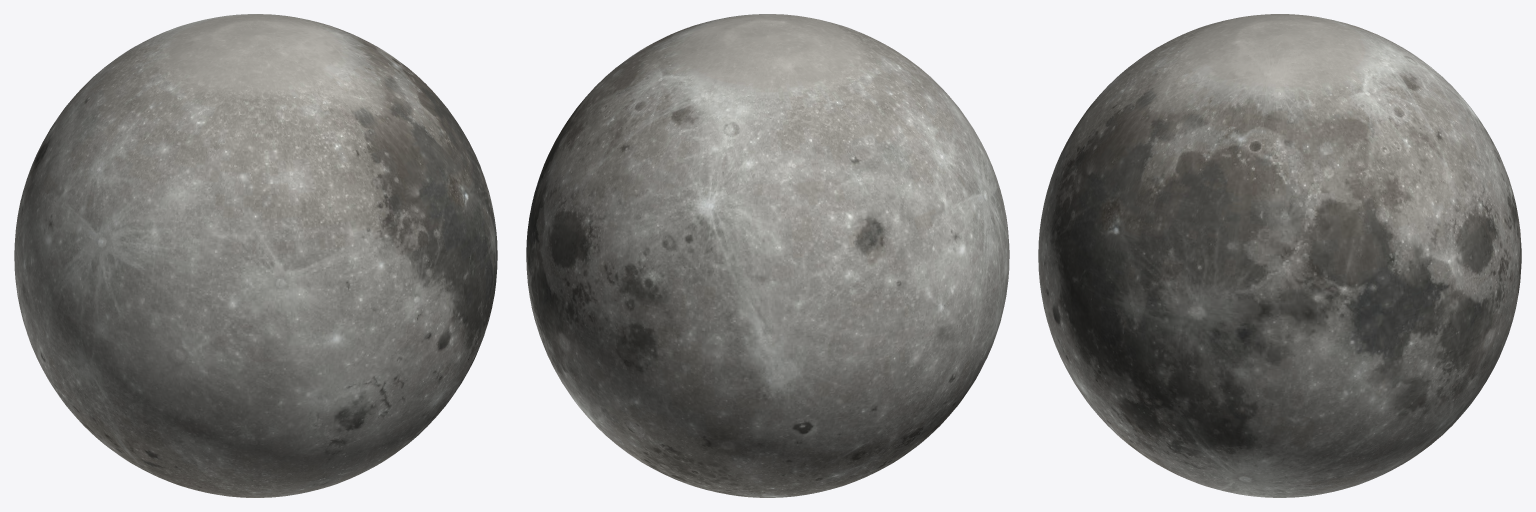
File: moon.gltf
3 views of the same model, side by side, from view 1: azimuth 30°, elevation 25°; view 2: azimuth 150°, elevation 25°; view 3: azimuth 270°, elevation 25° (orthographic).
Visible parts, largest first — view 1: Moon; view 2: Moon; view 3: Moon.
Boxes of the visible parts, x1=… form: Moon: x1=14, y1=14, x2=497, y2=497; Moon: x1=526, y1=14, x2=1009, y2=497; Moon: x1=1038, y1=14, x2=1521, y2=497.
Size of the model in its own units: 1.98 by 2 by 1.98.
1 material, 1 textured.
